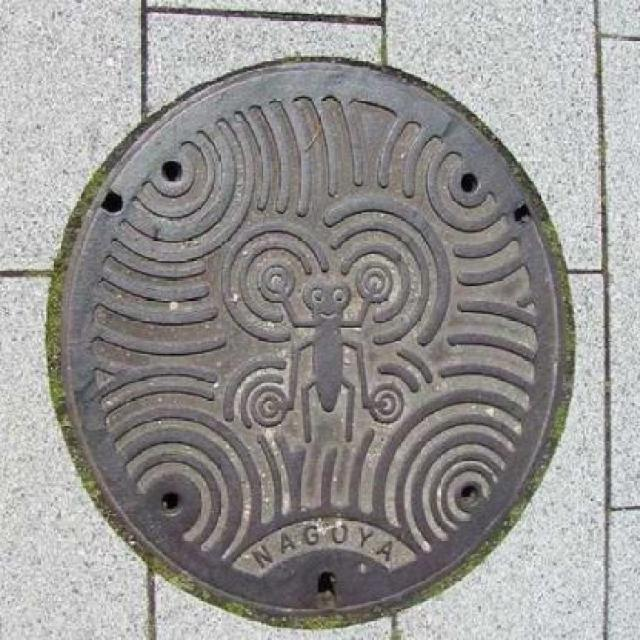Manhole: (40, 40, 580, 632)
